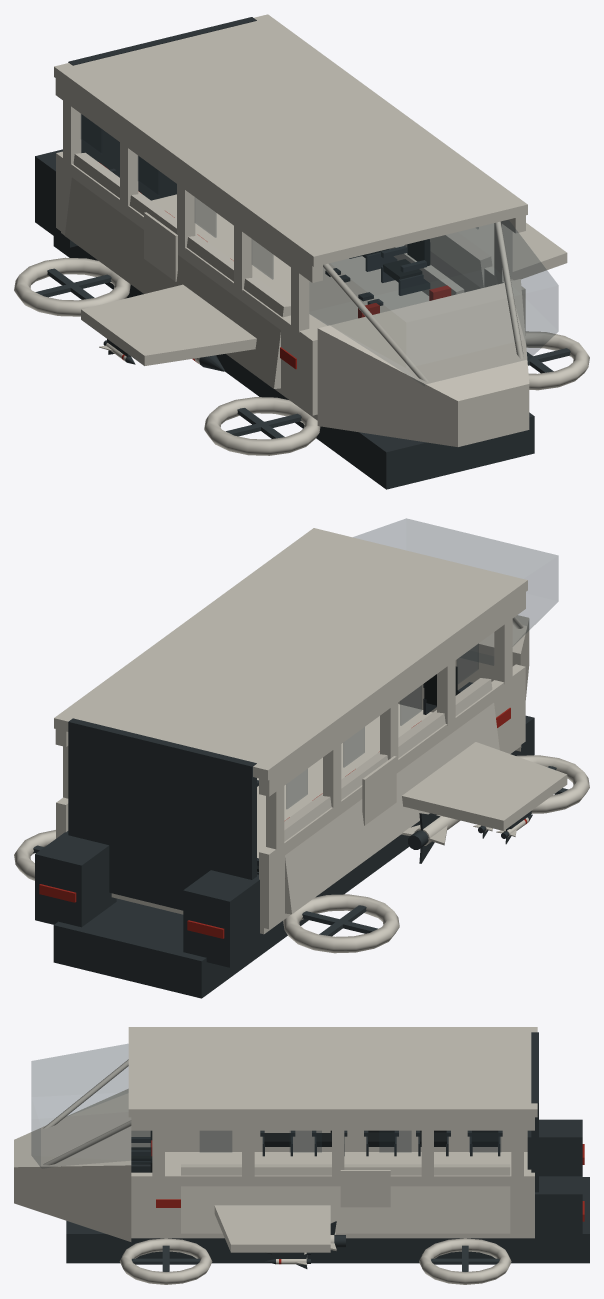
The picture shows the model from 3 angles, top to bottom: view 1: azimuth 30°, elevation 25°; view 2: azimuth 150°, elevation 25°; view 3: azimuth 270°, elevation 25°; orthographic projection. The views are drawn at different scales.
Parts seen in each view (by area): view 1: hover-transport-painted, transport-roof-painted, hover-transport-glazing, transport-ramp-painted, crew-seating-batch-painted, rotor-lift--1-2.9-fleet-machine, rotor-lift--1--3.1-fleet-machine; view 2: hover-transport-painted, transport-roof-painted, transport-ramp-painted, hover-transport-glazing, store-hover-large--1-painted, rotor-lift--1--3.1-fleet-machine, crew-seating-batch-painted; view 3: hover-transport-painted, transport-roof-painted, hover-transport-glazing, crew-seating-batch-painted, transport-ramp-painted, rotor-lift-1-2.9-fleet-machine, rotor-lift-1--3.1-fleet-machine, store-hover-large-1-painted.
Part boxes in pixels (bbox=[...]): hover-transport-painted: bbox=[14, 149, 589, 489]; transport-roof-painted: bbox=[54, 14, 527, 332]; hover-transport-glazing: bbox=[81, 114, 558, 385]; transport-ramp-painted: bbox=[68, 17, 256, 200]; crew-seating-batch-painted: bbox=[99, 162, 451, 318]; rotor-lift--1-2.9-fleet-machine: bbox=[226, 408, 301, 438]; rotor-lift--1--3.1-fleet-machine: bbox=[35, 268, 111, 299]; hover-transport-painted: bbox=[14, 615, 589, 998]; transport-roof-painted: bbox=[54, 528, 527, 850]; transport-ramp-painted: bbox=[68, 718, 256, 910]; hover-transport-glazing: bbox=[286, 518, 558, 808]; store-hover-large--1-painted: bbox=[401, 813, 460, 863]; rotor-lift--1--3.1-fleet-machine: bbox=[302, 905, 377, 936]; crew-seating-batch-painted: bbox=[257, 666, 472, 874]; hover-transport-painted: bbox=[14, 1059, 589, 1284]; transport-roof-painted: bbox=[128, 1027, 537, 1177]; hover-transport-glazing: bbox=[31, 1044, 500, 1168]; crew-seating-batch-painted: bbox=[131, 1130, 502, 1172]; transport-ramp-painted: bbox=[531, 1032, 538, 1192]; rotor-lift-1-2.9-fleet-machine: bbox=[132, 1245, 200, 1271]; rotor-lift-1--3.1-fleet-machine: bbox=[431, 1245, 499, 1271]; store-hover-large-1-painted: bbox=[317, 1221, 345, 1261].
Bounding box in the file's own units: 42.11 × 20.23 × 63.16.
